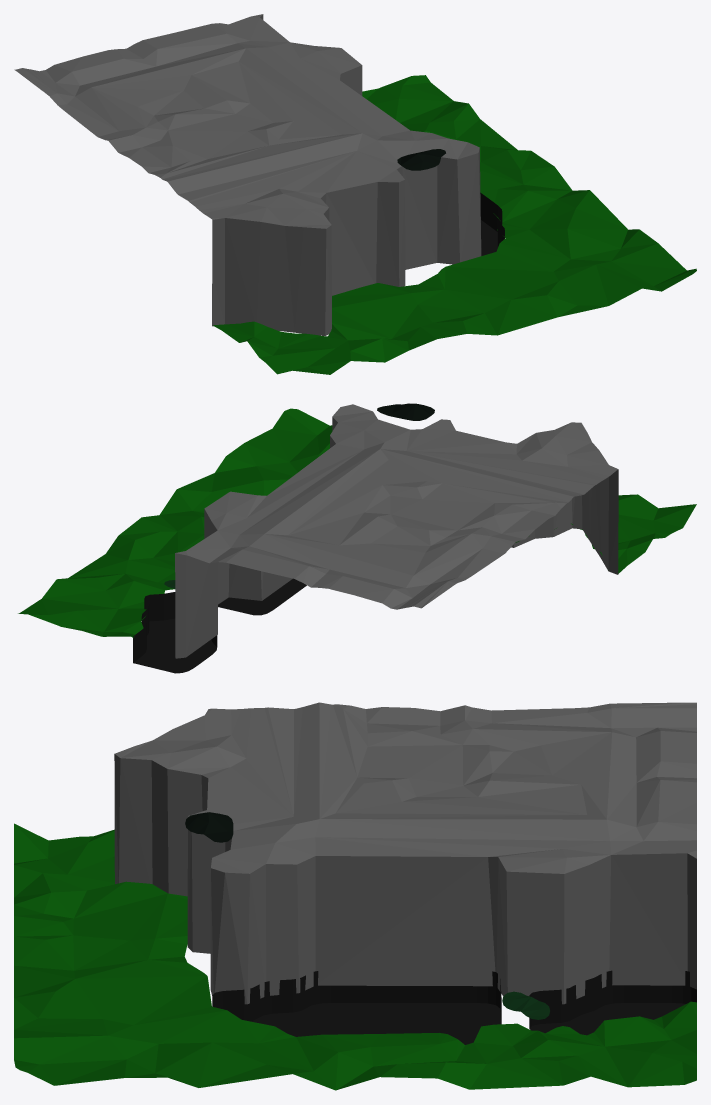
File: newshj-45.glb
3 views of the same model, one above another, from view 1: azimuth 30°, elevation 25°; view 2: azimuth 150°, elevation 25°; view 3: azimuth 270°, elevation 25° (orthographic). The views are drawn at different scales.
Parts seen in each view (by area): view 1: newshj-45; view 2: newshj-45; view 3: newshj-45.
Part boxes in pixels (bbox=[...]): newshj-45: bbox=[14, 14, 696, 374]; newshj-45: bbox=[18, 403, 696, 673]; newshj-45: bbox=[14, 702, 696, 1090].
Bounding box in the file's own units: 2 × 0.6378 × 2.33.
